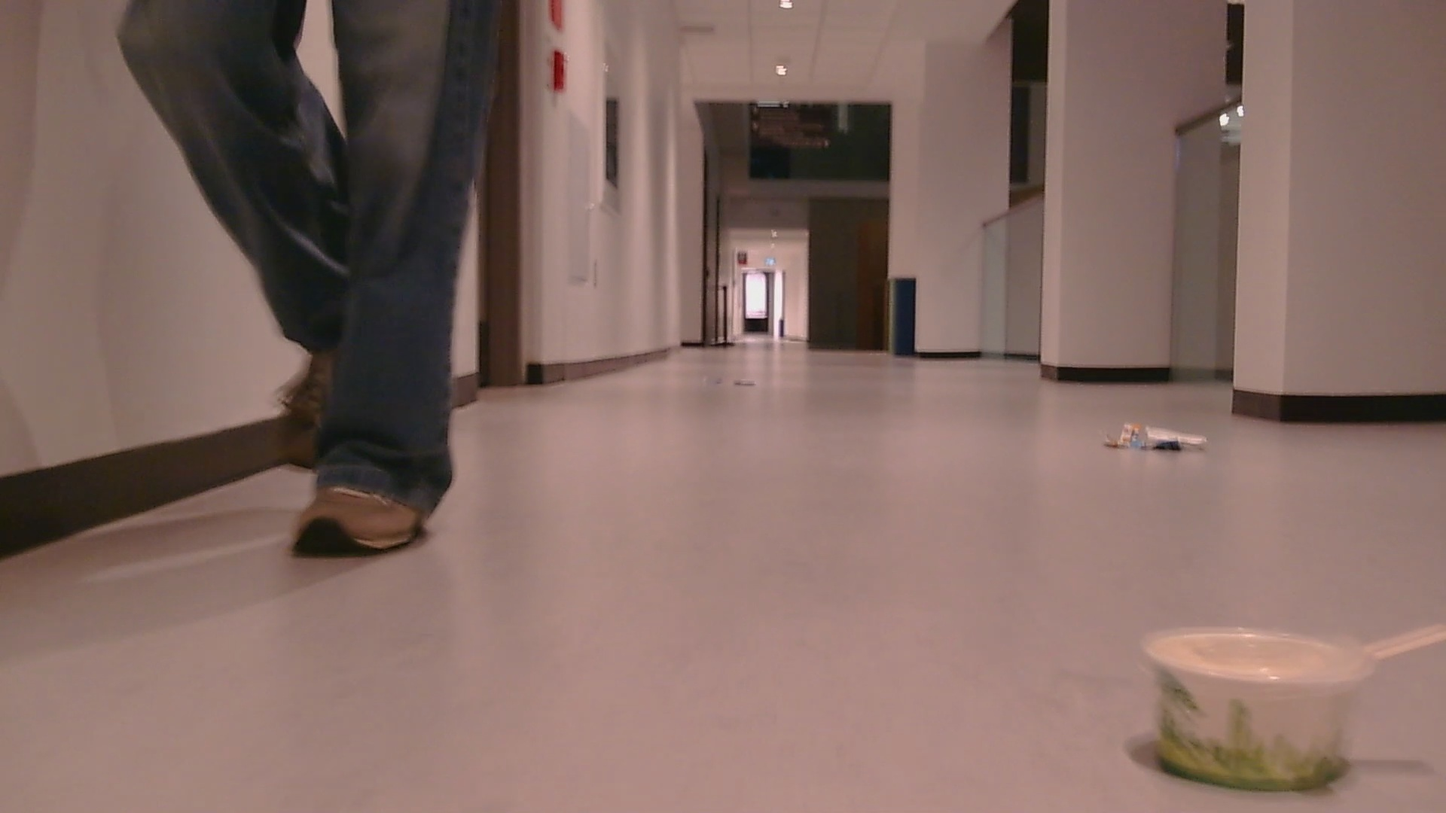carton: (1116, 608, 1443, 790), (1109, 414, 1218, 474), (734, 379, 760, 396), (712, 373, 728, 387)
